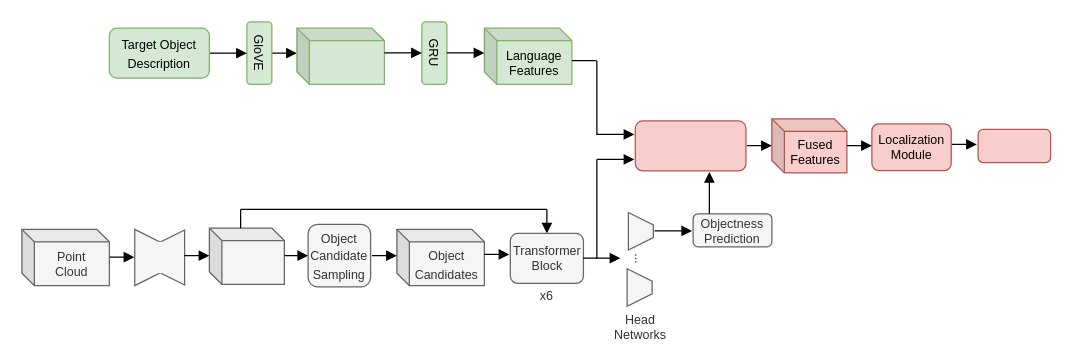
This 1073x364 diagram has some shape labels left out. Each missing label, with the centre of its shape:
"Box Confidences" goes at (1014,145).
"Fusion Module" goes at (690,145).
"PointNet++" goes at (159,256).
"Refined Features" goes at (246,255).
"Word Embeddings" goes at (340,55).
